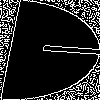L: (24, 25, 100, 59)
